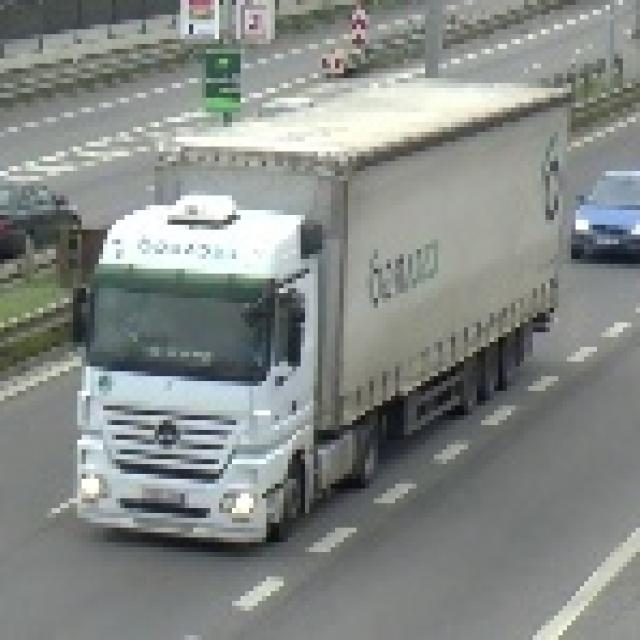TRUCK: (68, 80, 559, 556)
